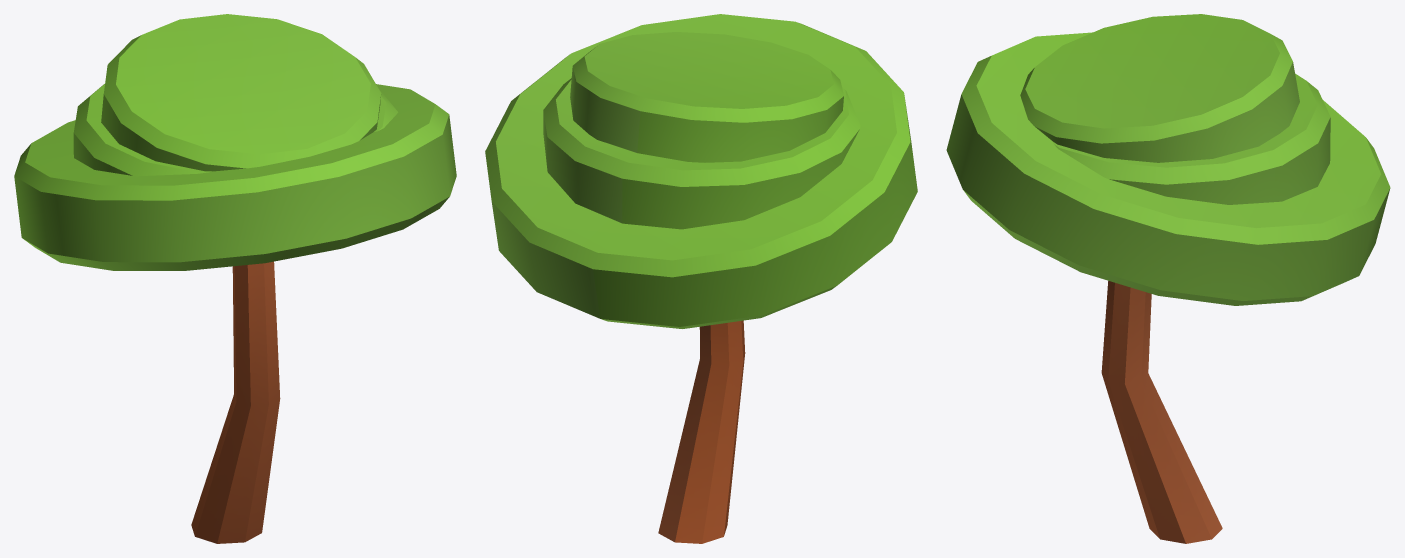
The model's file is tree_5_green.fbx.
3 views of the same model, side by side, from view 1: azimuth 30°, elevation 25°; view 2: azimuth 150°, elevation 25°; view 3: azimuth 270°, elevation 25° (orthographic). The views are drawn at different scales.
Parts seen in each view (by area): view 1: tree_5_green; view 2: tree_5_green; view 3: tree_5_green.
Part boxes in pixels (x1,y1,x2,y2): tree_5_green: (14,14,456,543); tree_5_green: (485,14,917,543); tree_5_green: (946,14,1390,543).
Bounding box in the file's own units: 569 × 676 × 572.
